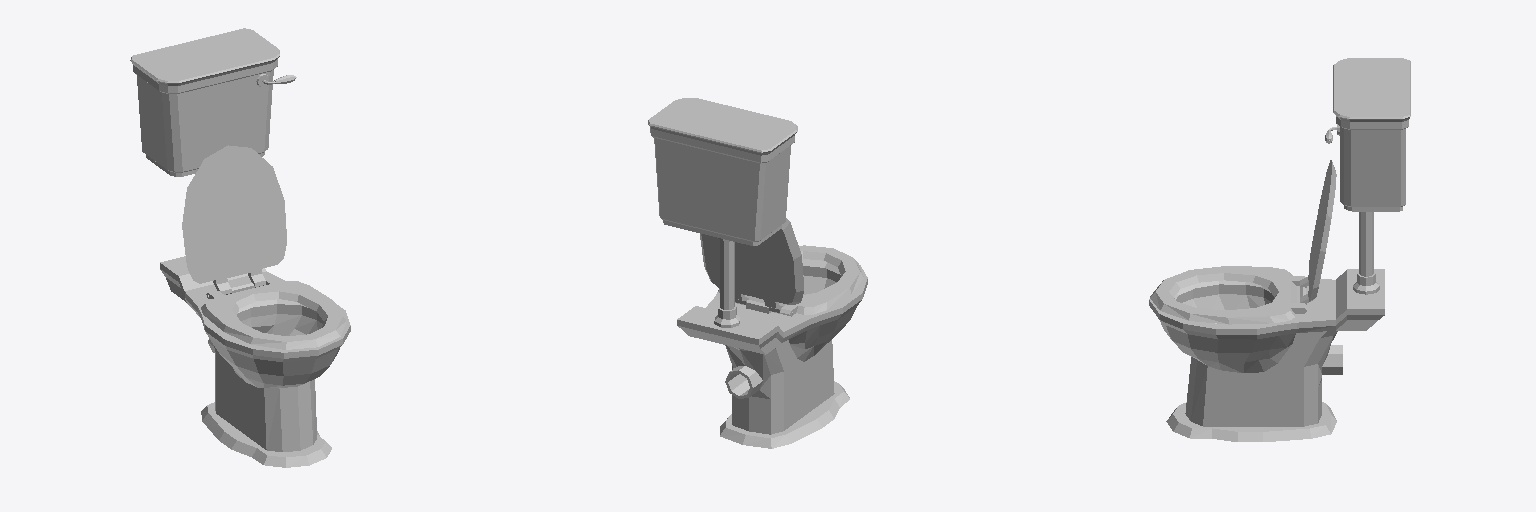
Rendered from SA_LD_Toilet.obj.
3 views of the same model, side by side, from view 1: azimuth 30°, elevation 25°; view 2: azimuth 150°, elevation 25°; view 3: azimuth 270°, elevation 25° (orthographic).
Visible parts, largest first — view 1: Toilet; view 2: Toilet; view 3: Toilet.
Part boxes in pixels (x1,y1,x2,y2): Toilet: (130, 28, 350, 467); Toilet: (648, 98, 867, 448); Toilet: (1149, 58, 1410, 441).
Bounding box in the file's own units: 2.77 × 6.89 × 4.88.